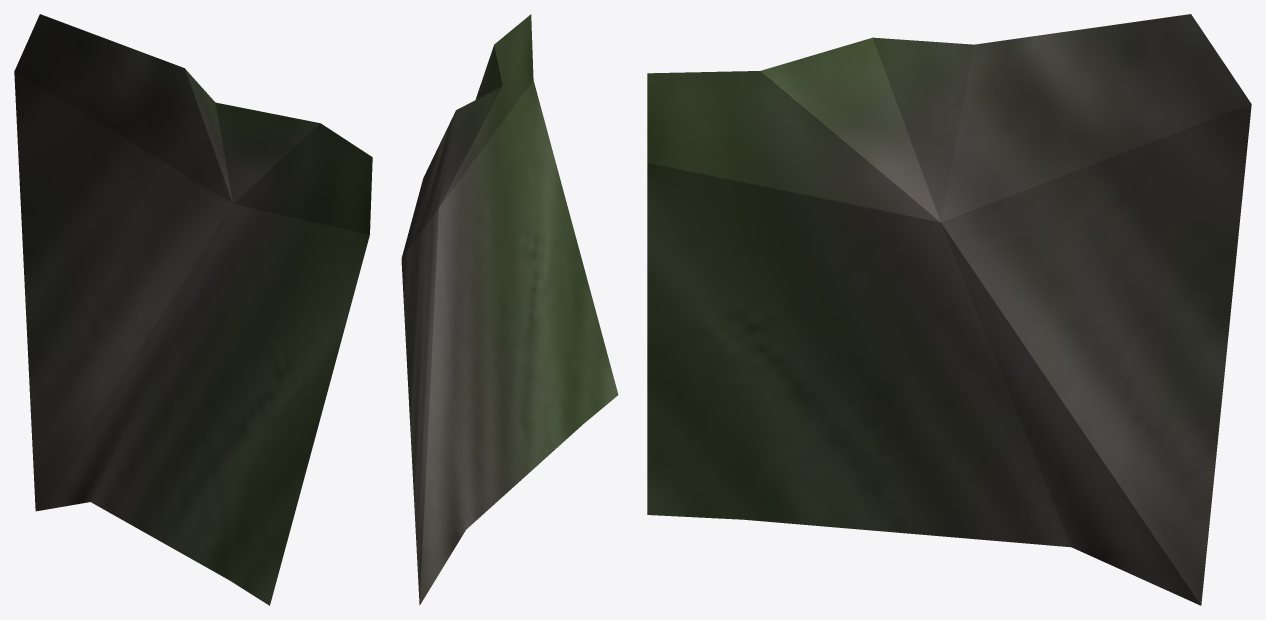
The picture shows the model from 3 angles, left to right: view 1: azimuth 30°, elevation 25°; view 2: azimuth 150°, elevation 25°; view 3: azimuth 270°, elevation 25°; orthographic projection. The views are drawn at different scales.
Bounding box in the file's own units: 0.1141 × 0.5311 × 0.4915.
1 material, 1 textured.
